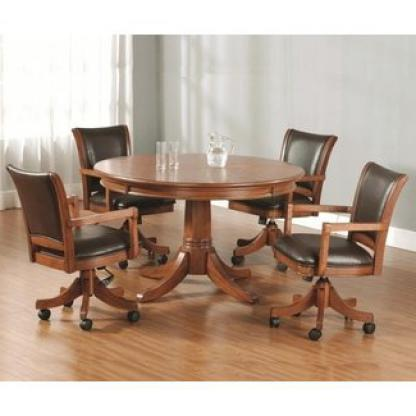chair: (272, 162, 409, 349), (7, 158, 149, 329), (64, 122, 180, 259), (225, 123, 337, 254)
